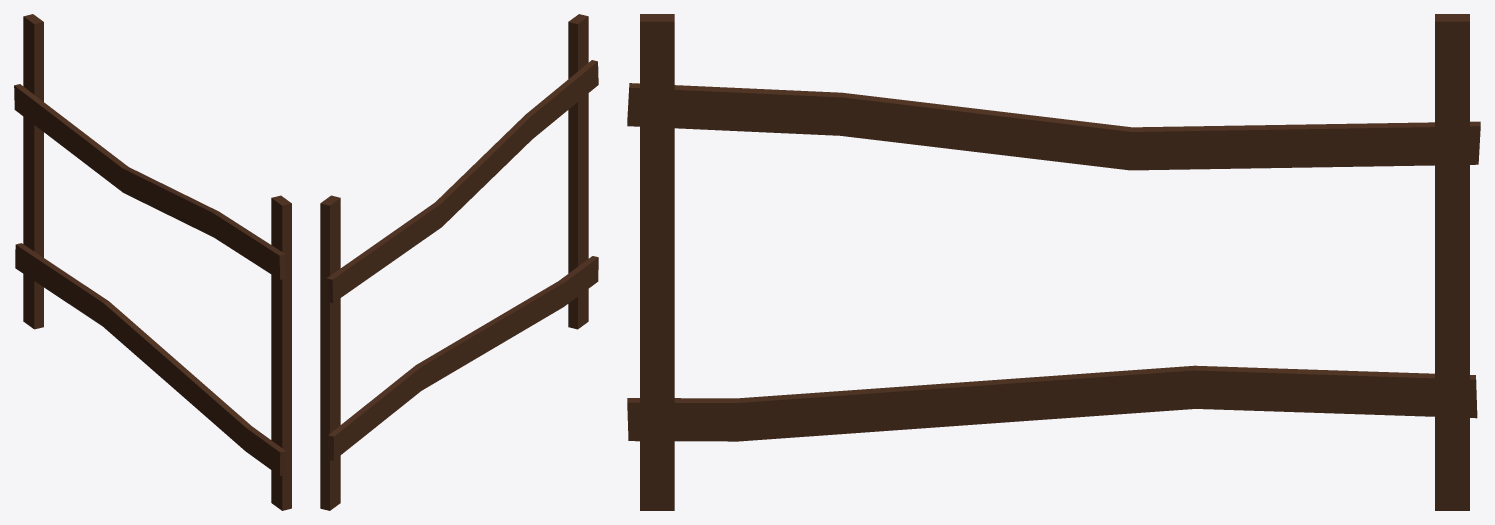
The model's file is WoodFence1.fbx.
3 views of the same model, side by side, from view 1: azimuth 30°, elevation 25°; view 2: azimuth 150°, elevation 25°; view 3: azimuth 270°, elevation 25° (orthographic). The views are drawn at different scales.
Parts seen in each view (by area): view 1: Cube.019; view 2: Cube.019; view 3: Cube.019.
Part boxes in pixels (<box>): Cube.019: <box>14,14,291,510</box>; Cube.019: <box>320,14,598,510</box>; Cube.019: <box>627,14,1480,510</box>.
Bounding box in the file's own units: 19.58 × 365 × 576.
